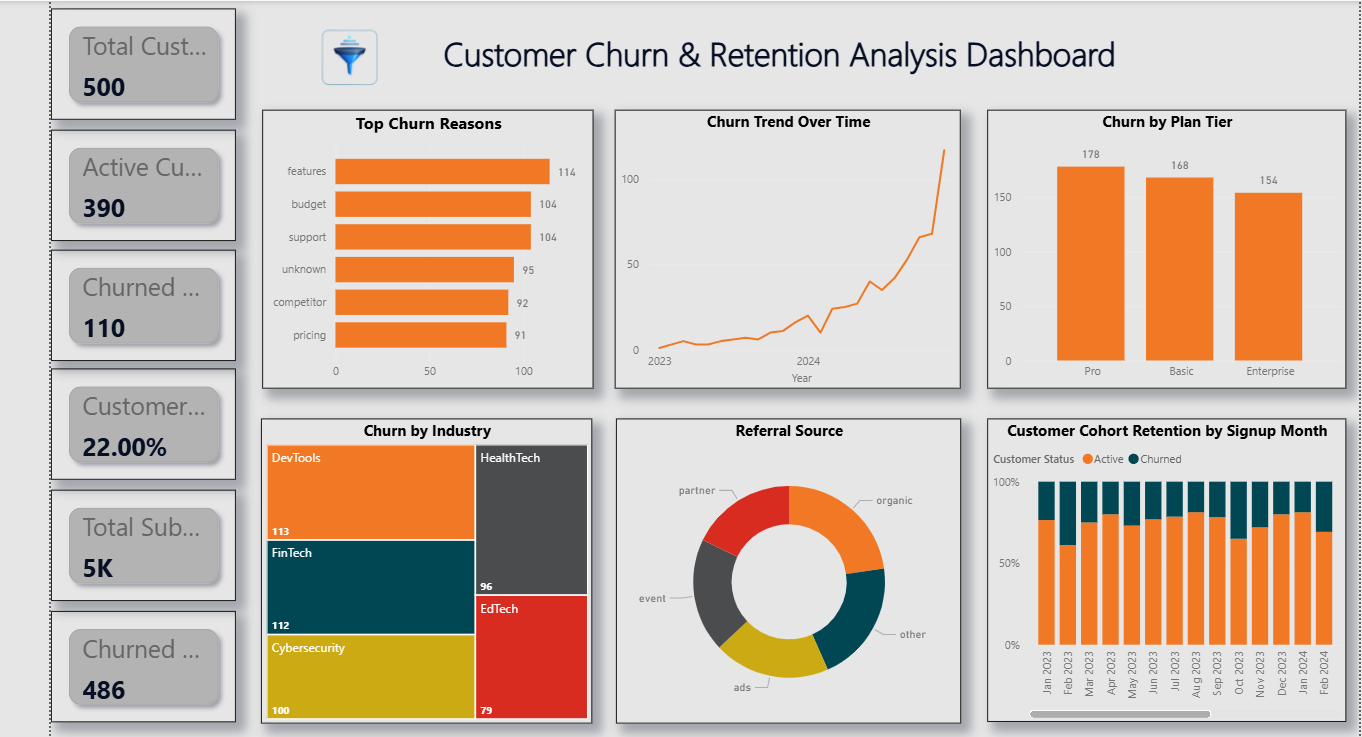

The page's visual inventory and layout, read from the dashboard file:
{"tool":"powerbi","page":{"name":"Page 1","canvas":[1280,720],"ordinal":0},"visuals":[{"type":"cardVisual","fields":{"Data":["ravenstack_accounts.Subscription churned"]},"box":[927.1,75.7,175.7,108.6],"z":0},{"type":"cardVisual","fields":{"Data":["ravenstack_accounts.Total Customers"]},"box":[11.4,75.7,181.4,108.6],"z":1000},{"type":"cardVisual","fields":{"Data":["ravenstack_accounts.Churned Customers"]},"box":[380,75.7,180,108.6],"z":2000},{"type":"cardVisual","fields":{"Data":["ravenstack_accounts.Active Customers"]},"box":[192.9,75.7,187.1,108.6],"z":3000},{"type":"cardVisual","fields":{"Data":["ravenstack_accounts.Churn Rate %"]},"box":[560,75.7,192.9,108.6],"z":4000},{"type":"cardVisual","fields":{"Data":["ravenstack_accounts.Total Subscription"]},"box":[752.9,75.7,174.3,108.6],"z":5000},{"type":"barChart","title":"Top Churn Reasons","fields":{"Category":["ravenstack_churn_events.reason_code"],"Y":["ravenstack_accounts.count of churn_event_id"]},"box":[11.4,200,387.1,245.7],"z":6000},{"type":"lineChart","title":"Churn Trend Over Time","fields":{"Y":["ravenstack_accounts.count of churn_event_id"],"Category":["ravenstack_churn_events.churn_date.Variation.Date Hierarchy.Year","ravenstack_churn_events.churn_date.Variation.Date Hierarchy.Month"]},"box":[427.1,200,390,245.7],"z":7000},{"type":"columnChart","title":"Churn by Plan Tier","fields":{"Category":["ravenstack_accounts.plan_tier"],"Y":["ravenstack_accounts.count of account id"]},"box":[844.3,200,422.9,245.7],"z":8000},{"type":"treemap","title":"Churn by Industry","fields":{"Group":["ravenstack_accounts.industry"],"Values":["ravenstack_accounts.count of account id"]},"box":[11.4,460,387.1,247.1],"z":9000},{"type":"donutChart","title":"Referral Source","fields":{"Category":["ravenstack_accounts.referral_source"],"Y":["ravenstack_accounts.count of account id"]},"box":[424.3,461.4,390,245.7],"z":10000},{"type":"slicer","fields":{"Values":["ravenstack_accounts.industry","ravenstack_accounts.country","ravenstack_accounts.plan_tier","ravenstack_accounts.referral_source"]},"box":[1103,75.8,163.9,108.8],"z":11000},{"type":"textbox","box":[11,8.6,1162.9,53.8],"z":12000},{"type":"hundredPercentStackedColumnChart","title":"Customer Cohort Retention by Signup Month","fields":{"Category":["ravenstack_accounts.Signup Month"],"Y":["ravenstack_accounts.count of account id"],"Series":["ravenstack_accounts.Customer Status"]},"box":[844,461,423,246],"z":13000}]}

Visuals, with their boxes on the page's 1280x720 design canvas (x1, y1, x2, y2). These are canvas units, not pixel positions in the 1362x737 screenshot, which may show the page scaled, cropped or inside an application window:
cardVisual - ravenstack_accounts.Subscription churned: 927, 76, 1103, 184
cardVisual - ravenstack_accounts.Total Customers: 11, 76, 193, 184
cardVisual - ravenstack_accounts.Churned Customers: 380, 76, 560, 184
cardVisual - ravenstack_accounts.Active Customers: 193, 76, 380, 184
cardVisual - ravenstack_accounts.Churn Rate %: 560, 76, 753, 184
cardVisual - ravenstack_accounts.Total Subscription: 753, 76, 927, 184
"Top Churn Reasons" barChart: 11, 200, 398, 446
"Churn Trend Over Time" lineChart: 427, 200, 817, 446
"Churn by Plan Tier" columnChart: 844, 200, 1267, 446
"Churn by Industry" treemap: 11, 460, 398, 707
"Referral Source" donutChart: 424, 461, 814, 707
slicer - ravenstack_accounts.industry x ravenstack_accounts.country: 1103, 76, 1267, 185
textbox: 11, 9, 1174, 62
"Customer Cohort Retention by Signup Month" hundredPercentStackedColumnChart: 844, 461, 1267, 707
